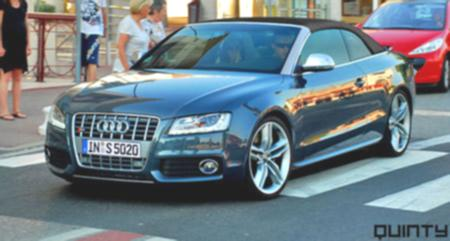Audi: (94, 113, 134, 140)
